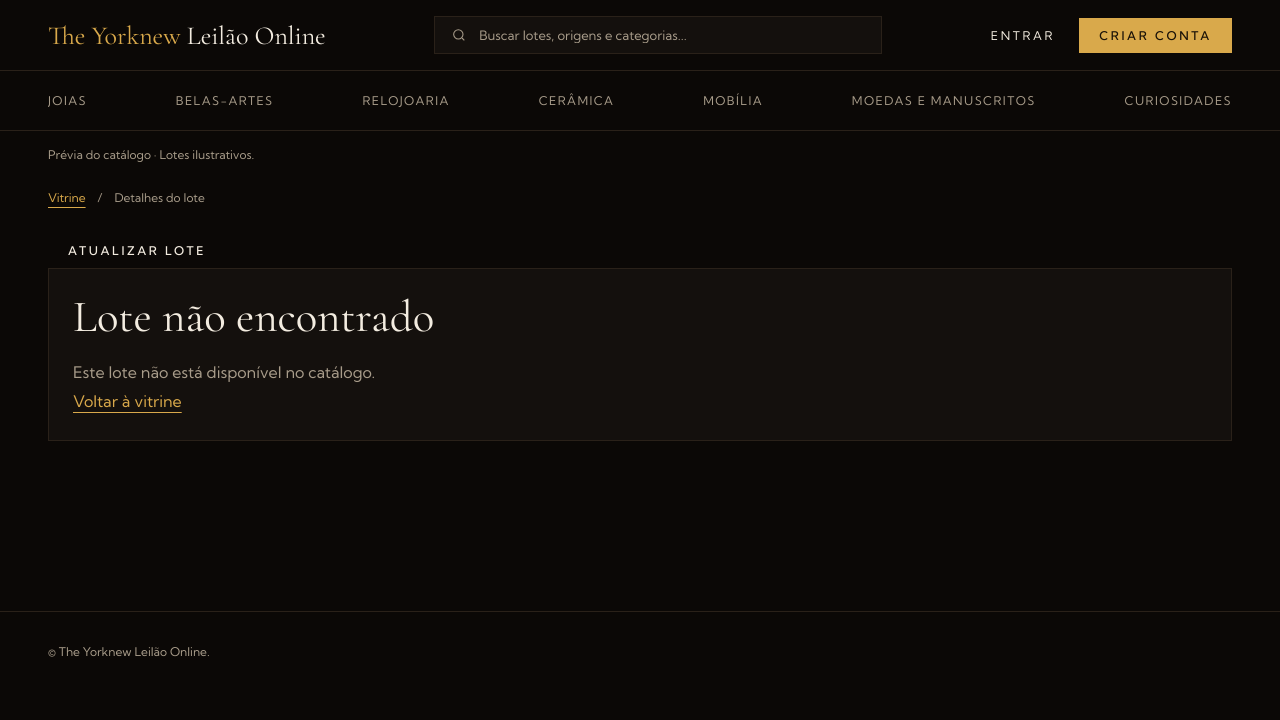
it: unknown lot shows a recovery link and the shared header
Expected: the heading "Lote não encontrado" is shown, [73,290,434,344]
Expected: the header is shown, [0,0,1279,71]
Click the link "Voltar à vitrine". click: point(127, 401)
box: [73,391,182,411]
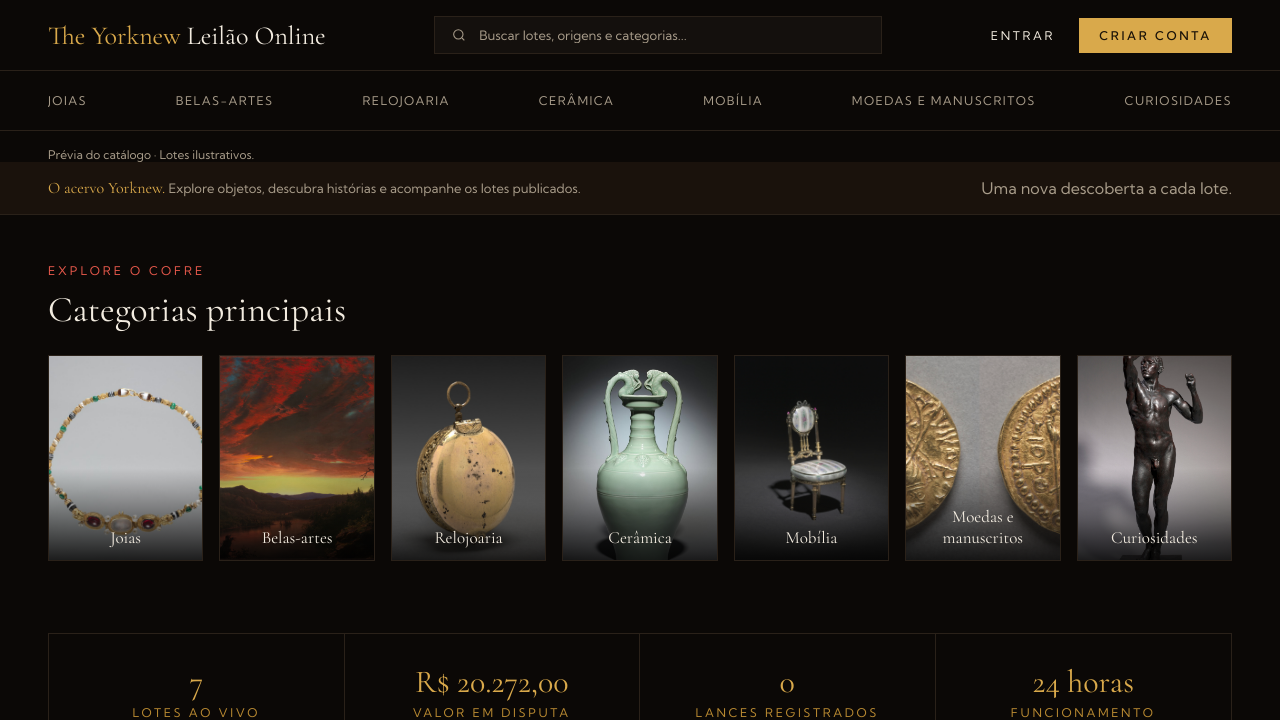
Now the heading "Categorias principais" is shown, box [48,288,346,331]
